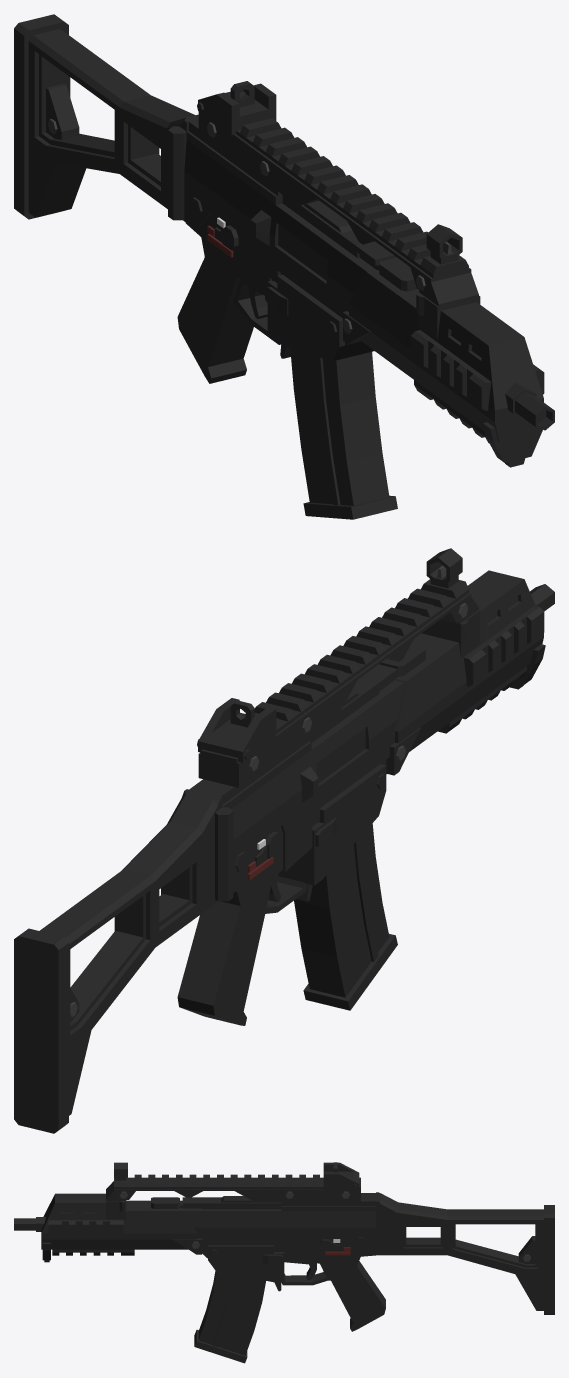
3 views of the same model, one above another, from view 1: azimuth 30°, elevation 25°; view 2: azimuth 150°, elevation 25°; view 3: azimuth 270°, elevation 25° (orthographic). The views are drawn at different scales.
Visible parts, largest first — view 1: AR_D_Stock, AR_D_Receiver_Up, AR_D_BarrelGuard, AR_D_Mag, AR_D_Rail, AR_D_Receiver_Down, AR_D_Sight, AR_D_BarrelGuard_Rail, AR_D_Bolt, AR_D_Barrel, AR_D_Bolt_Part; view 2: AR_D_Stock, AR_D_Receiver_Up, AR_D_BarrelGuard, AR_D_Rail, AR_D_Mag, AR_D_Receiver_Down, AR_D_Sight, AR_D_BarrelGuard_Rail, AR_D_Bolt, AR_D_Bolt_Part; view 3: AR_D_Receiver_Up, AR_D_Stock, AR_D_BarrelGuard, AR_D_Rail, AR_D_Mag, AR_D_Receiver_Down, AR_D_BarrelGuard_Rail, AR_D_Sight, AR_D_Bolt, AR_D_Bolt_Part, AR_D_Barrel.
Boxes of the visible parts, x1,y1,x2,y2 form: AR_D_Stock: (14,14,198,221); AR_D_Receiver_Up: (184,119,375,361); AR_D_BarrelGuard: (342,270,543,467); AR_D_Mag: (290,347,397,519); AR_D_Rail: (198,111,478,306); AR_D_Receiver_Down: (177,213,280,383); AR_D_Sight: (197,81,462,264); AR_D_BarrelGuard_Rail: (410,330,544,410); AR_D_Bolt: (282,195,396,265); AR_D_Barrel: (505,383,554,430); AR_D_Bolt_Part: (359,254,417,291); AR_D_Stock: (14,789,233,1133); AR_D_Receiver_Up: (189,680,403,901); AR_D_BarrelGuard: (386,570,545,775); AR_D_Rail: (198,579,478,787); AR_D_Mag: (294,823,397,1010); AR_D_Receiver_Down: (177,826,307,1025); AR_D_Sight: (197,548,462,762); AR_D_BarrelGuard_Rail: (464,606,544,686); AR_D_Bolt: (309,664,397,742); AR_D_Bolt_Part: (379,643,425,690); AR_D_Receiver_Up: (183,1193,375,1291); AR_D_Stock: (376,1192,554,1314); AR_D_BarrelGuard: (41,1193,201,1262); AR_D_Rail: (106,1174,360,1202); AR_D_Mag: (194,1244,267,1363); AR_D_Receiver_Down: (282,1238,385,1331); AR_D_BarrelGuard_Rail: (48,1220,123,1236); AR_D_Sight: (114,1162,359,1189); AR_D_Bolt: (182,1196,281,1209); AR_D_Bolt_Part: (151,1197,201,1208); AR_D_Barrel: (14,1217,45,1231).
Size of the model in its own units: 0.28 by 1.57 by 3.94.
